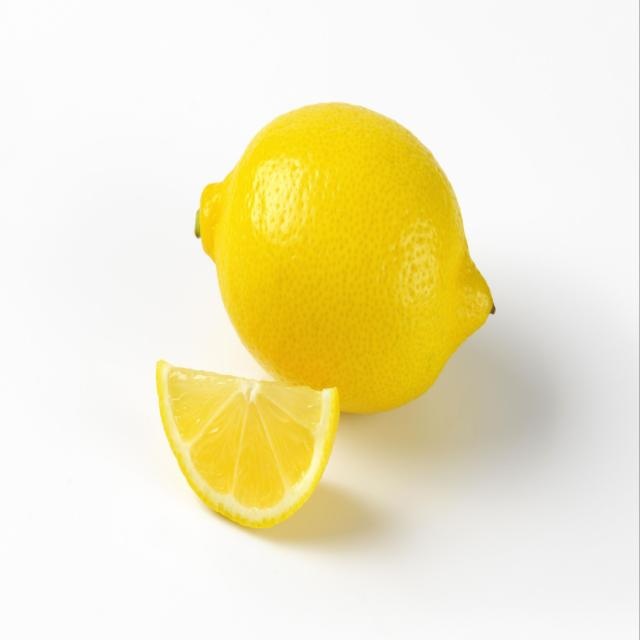lemon: (190, 96, 500, 421), (154, 357, 344, 534)
